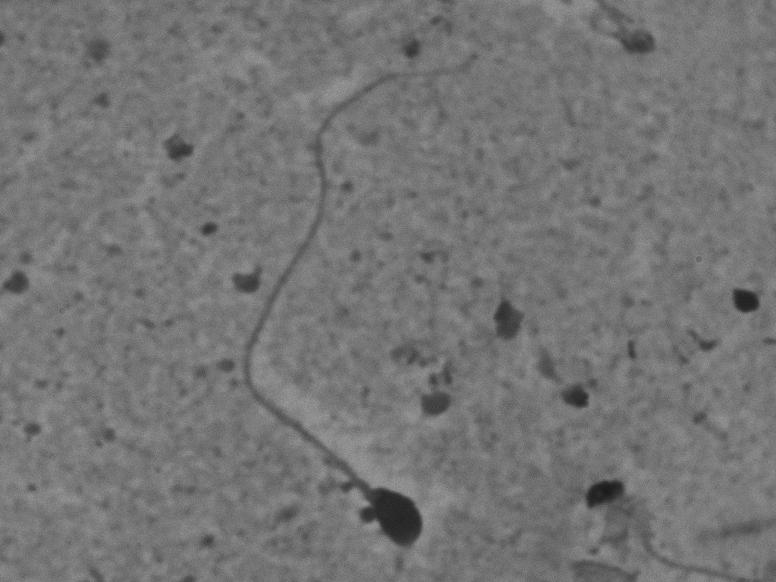Abnormal: (168, 47, 540, 557)
